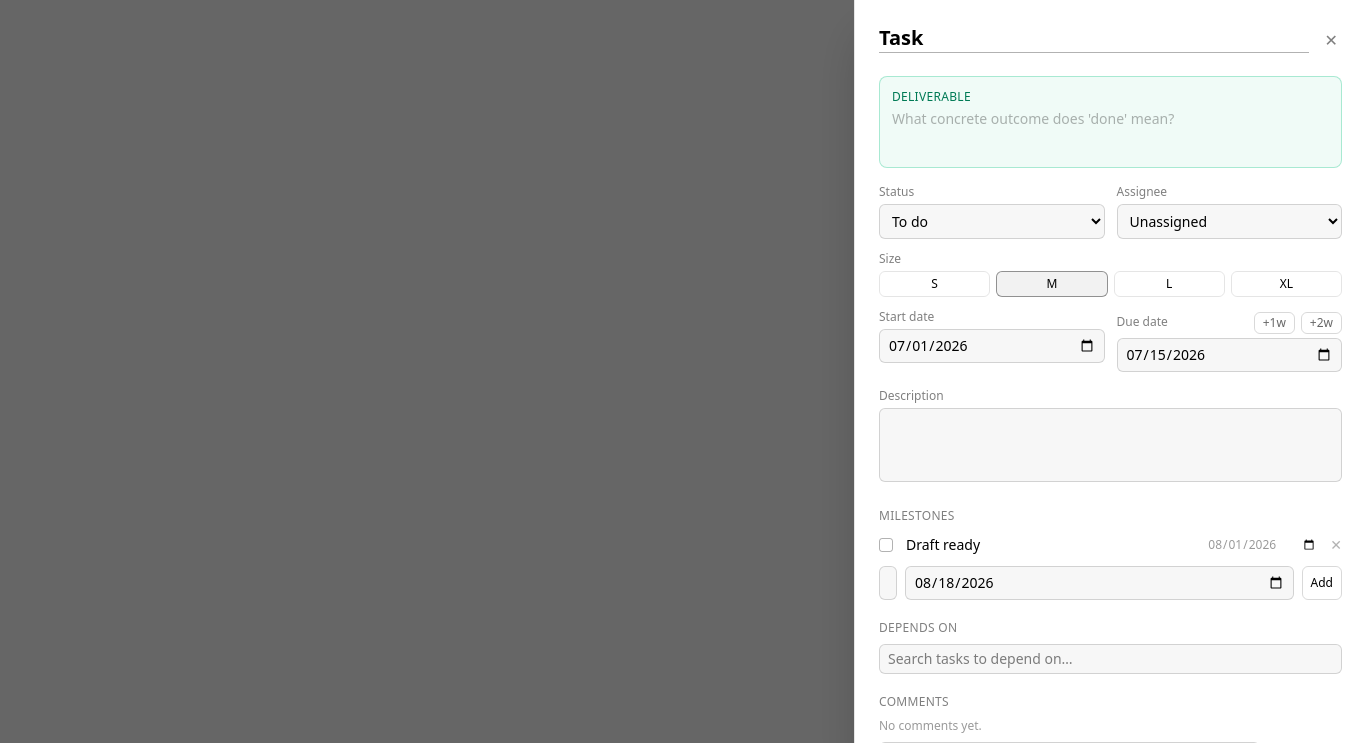
Test: TaskDetailDrawer — renaming a milestone (reported as impossible) › snaps back to the stored name instead of saving a blank one
Clear the field showing "Draft ready". click: (1048, 545)
box: [901, 532, 1194, 558]
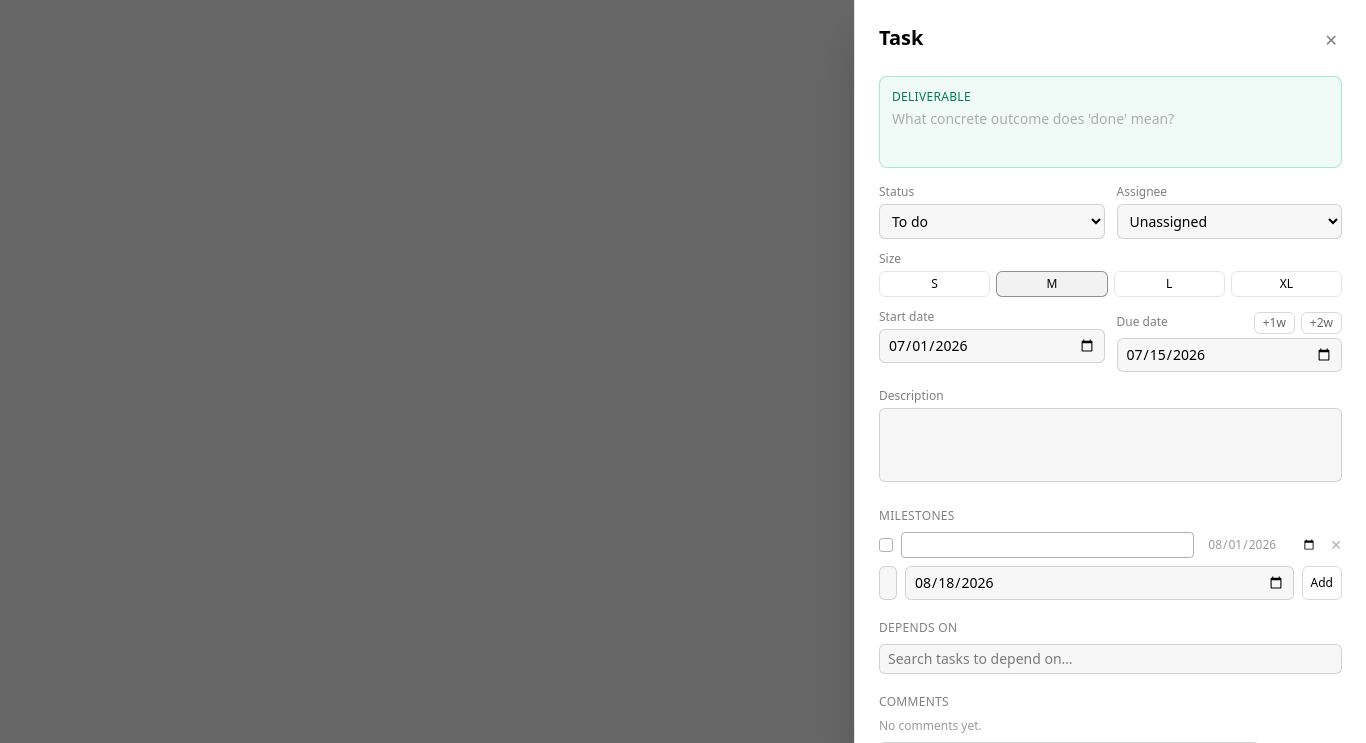
Press Tab
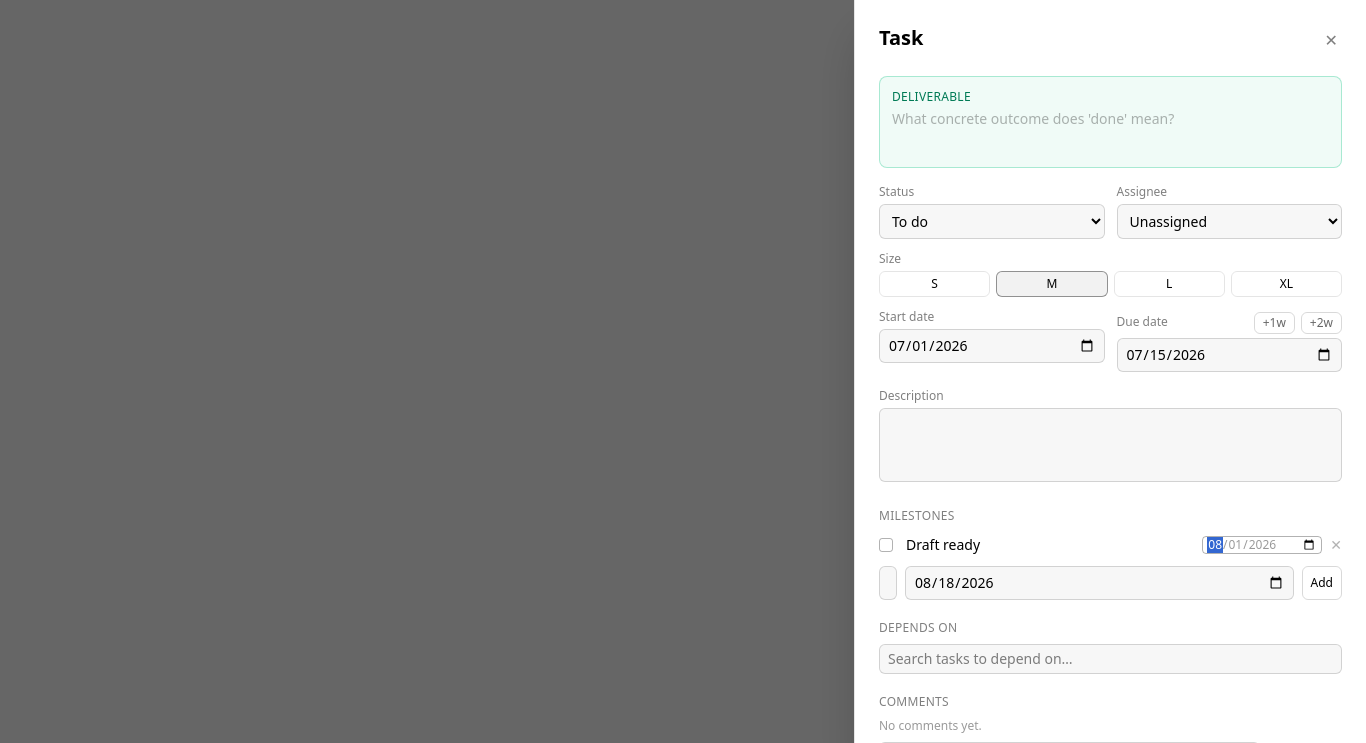
Expected: the field showing "Draft ready" is shown, [901, 532, 1194, 558]
